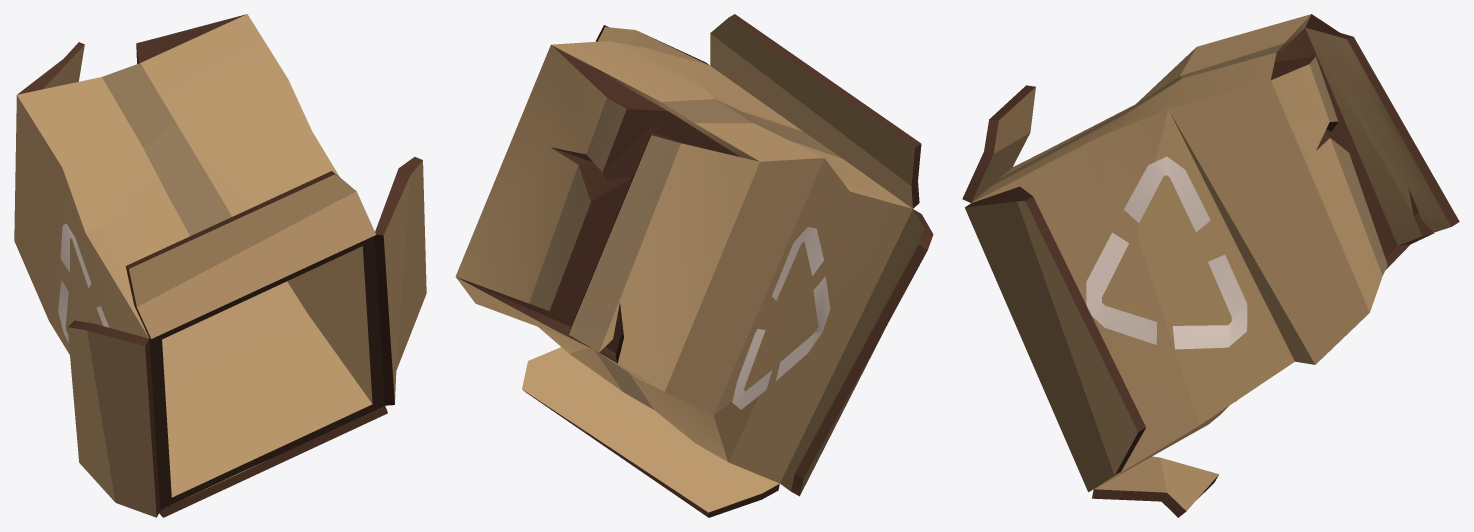
File: Domik_Korobka.fbx
3 views of the same model, side by side, from view 1: azimuth 30°, elevation 25°; view 2: azimuth 150°, elevation 25°; view 3: azimuth 270°, elevation 25° (orthographic). The views are drawn at different scales.
Visible parts, largest first — view 1: Box012; view 2: Box012; view 3: Box012.
Part boxes in pixels (x1=…): Box012: x1=14, y1=14, x2=426, y2=517; Box012: x1=455, y1=14, x2=933, y2=517; Box012: x1=962, y1=14, x2=1459, y2=517.
Bounding box in the file's own units: 1802 × 1920 × 1856.
